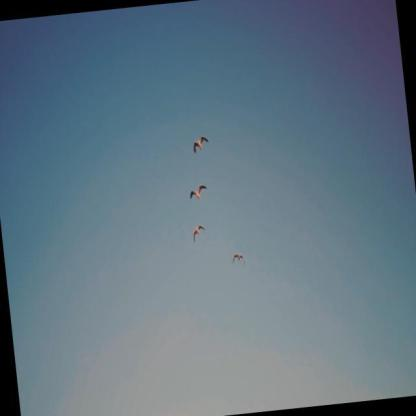bird: (189, 183, 209, 203), (192, 134, 210, 155), (192, 224, 207, 243), (231, 252, 246, 267)
